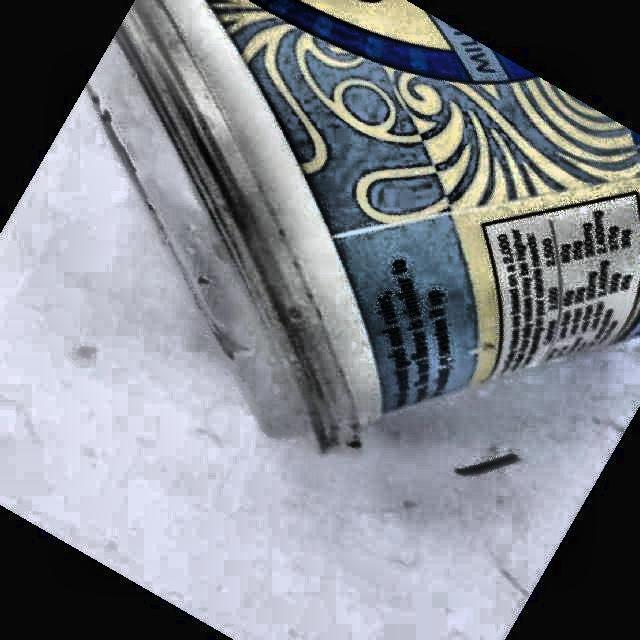plastic: (89, 0, 640, 451)
